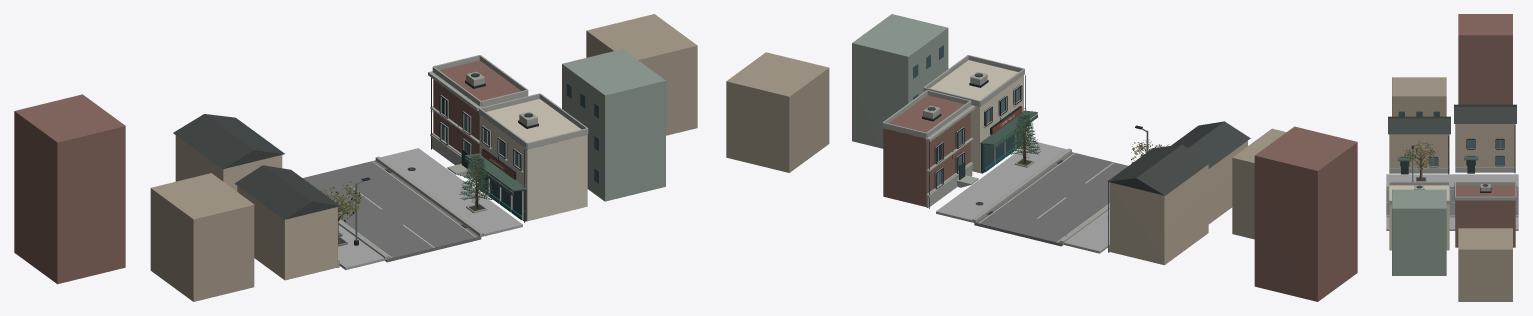
File: city_hd_00.glb
The picture shows the model from 3 angles, left to right: view 1: azimuth 30°, elevation 25°; view 2: azimuth 150°, elevation 25°; view 3: azimuth 270°, elevation 25°; orthographic projection. The views are drawn at different scales.
Parts seen in each view (by area): view 1: CITY_lamp, CITY_realwall_a99d8c, Background city building.002, CITY_PBR_asphalt, Mixed use shop volume, CITY_realwall_b9ad99, CITY_roof, CITY_PBR_pavement, CITY_trim, CITY_curb, CITY_recess, Single pine needle canopy (+5 smaller); view 2: CITY_lamp, CITY_realwall_a99d8c, Background city building.002, CITY_realwall_b9ad99, CITY_PBR_asphalt, CITY_roof, CITY_PBR_pavement, CITY_trim, Mixed use shop volume, CITY_curb, CITY_recess, Single pine needle canopy (+4 smaller); view 3: CITY_lamp, CITY_realwall_a99d8c, Background city building.002, CITY_realwall_b9ad99, CITY_roof, CITY_trim, CITY_PBR_pavement, Mixed use shop volume, Tree individual folded leaves, CITY_glass, CITY_PBR_asphalt, CITY_recess (+7 smaller).
Boxes of the visible parts, bbox=[...] form: CITY_lamp: bbox=[14, 60, 521, 284]; CITY_realwall_a99d8c: bbox=[150, 14, 697, 301]; Background city building.002: bbox=[562, 49, 665, 201]; CITY_PBR_asphalt: bbox=[303, 160, 481, 262]; Mixed use shop volume: bbox=[479, 99, 587, 221]; CITY_realwall_b9ad99: bbox=[175, 135, 337, 280]; CITY_roof: bbox=[173, 114, 527, 219]; CITY_PBR_pavement: bbox=[338, 148, 522, 269]; CITY_trim: bbox=[337, 55, 588, 267]; CITY_curb: bbox=[338, 156, 483, 260]; CITY_recess: bbox=[439, 95, 522, 170]; Single pine needle canopy: bbox=[459, 155, 493, 202]; CITY_lamp: bbox=[883, 95, 1357, 301]; CITY_realwall_a99d8c: bbox=[726, 52, 1286, 239]; Background city building.002: bbox=[852, 14, 948, 148]; CITY_realwall_b9ad99: bbox=[1110, 140, 1247, 265]; CITY_PBR_asphalt: bbox=[974, 152, 1127, 246]; CITY_roof: bbox=[980, 106, 1250, 195]; CITY_PBR_pavement: bbox=[936, 141, 1109, 253]; CITY_trim: bbox=[882, 55, 1109, 252]; Mixed use shop volume: bbox=[930, 60, 1023, 172]; CITY_curb: bbox=[972, 148, 1109, 244]; CITY_recess: bbox=[934, 85, 1022, 189]; Single pine needle canopy: bbox=[1008, 114, 1040, 158]; CITY_lamp: bbox=[1455, 14, 1515, 247]; CITY_realwall_a99d8c: bbox=[1392, 77, 1512, 301]; Background city building.002: bbox=[1392, 189, 1446, 275]; CITY_realwall_b9ad99: bbox=[1389, 124, 1515, 168]; CITY_roof: bbox=[1388, 104, 1516, 200]; CITY_trim: bbox=[1388, 149, 1516, 225]; CITY_PBR_pavement: bbox=[1386, 174, 1518, 230]; Mixed use shop volume: bbox=[1389, 185, 1449, 250]; Tree individual folded leaves: bbox=[1403, 141, 1435, 169]; CITY_glass: bbox=[1429, 139, 1504, 166]; CITY_PBR_asphalt: bbox=[1386, 189, 1518, 215]; CITY_recess: bbox=[1400, 138, 1504, 167].
Bounding box in the file's own units: 56.65 × 12.26 × 16.
